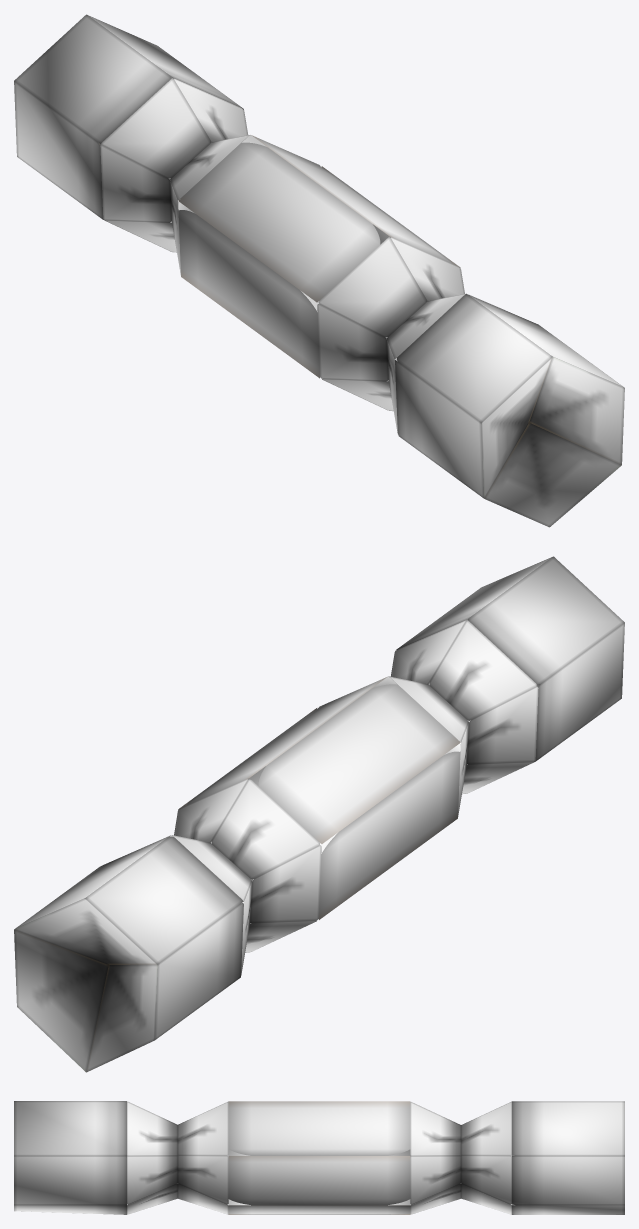
3 renders of one model, top to bottom at view 1: azimuth 30°, elevation 25°; view 2: azimuth 150°, elevation 25°; view 3: azimuth 270°, elevation 25°, orthographic. The views are drawn at different scales.
Visible parts, largest first — view 1: T1L1M006_8; view 2: T1L1M006_8; view 3: T1L1M006_8.
Boxes of the visible parts, left/top/right/bottom form: T1L1M006_8: left=14, top=14, right=624, bottom=527; T1L1M006_8: left=14, top=556, right=624, bottom=1072; T1L1M006_8: left=14, top=1101, right=624, bottom=1214.
Bounding box in the file's own units: 0.1416 × 0.1641 × 0.7979.
